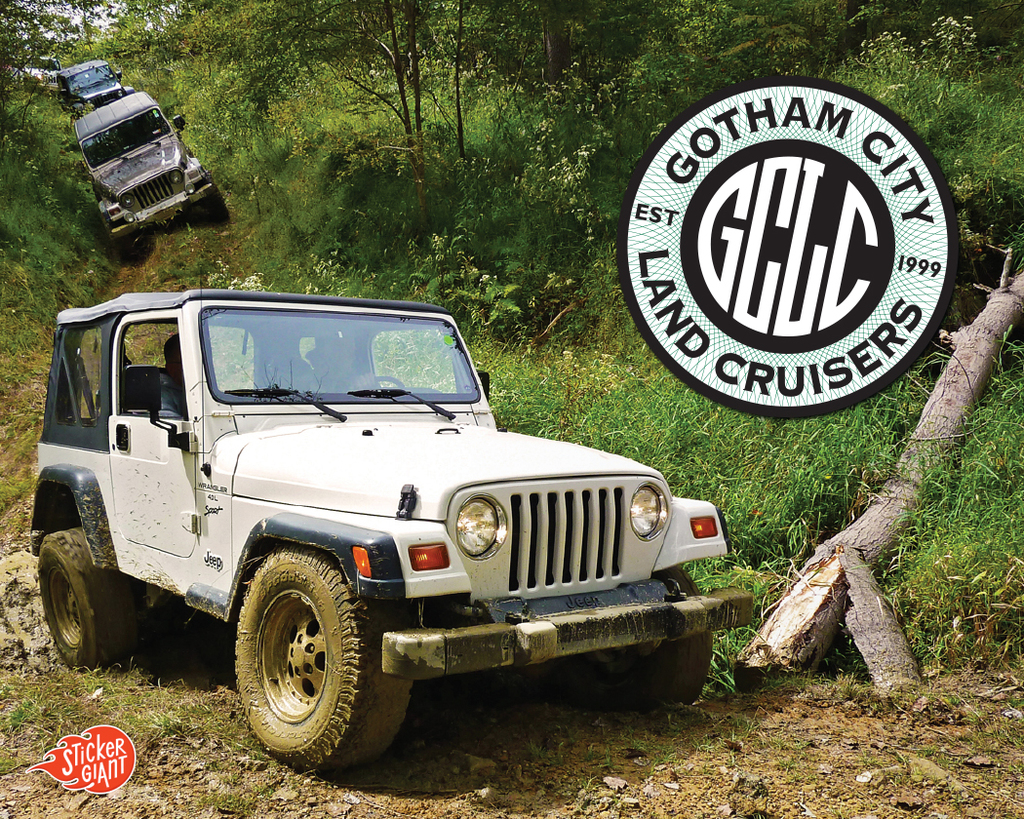Car: (38, 273, 728, 770), (65, 84, 235, 261), (59, 56, 136, 124), (22, 50, 62, 81)
